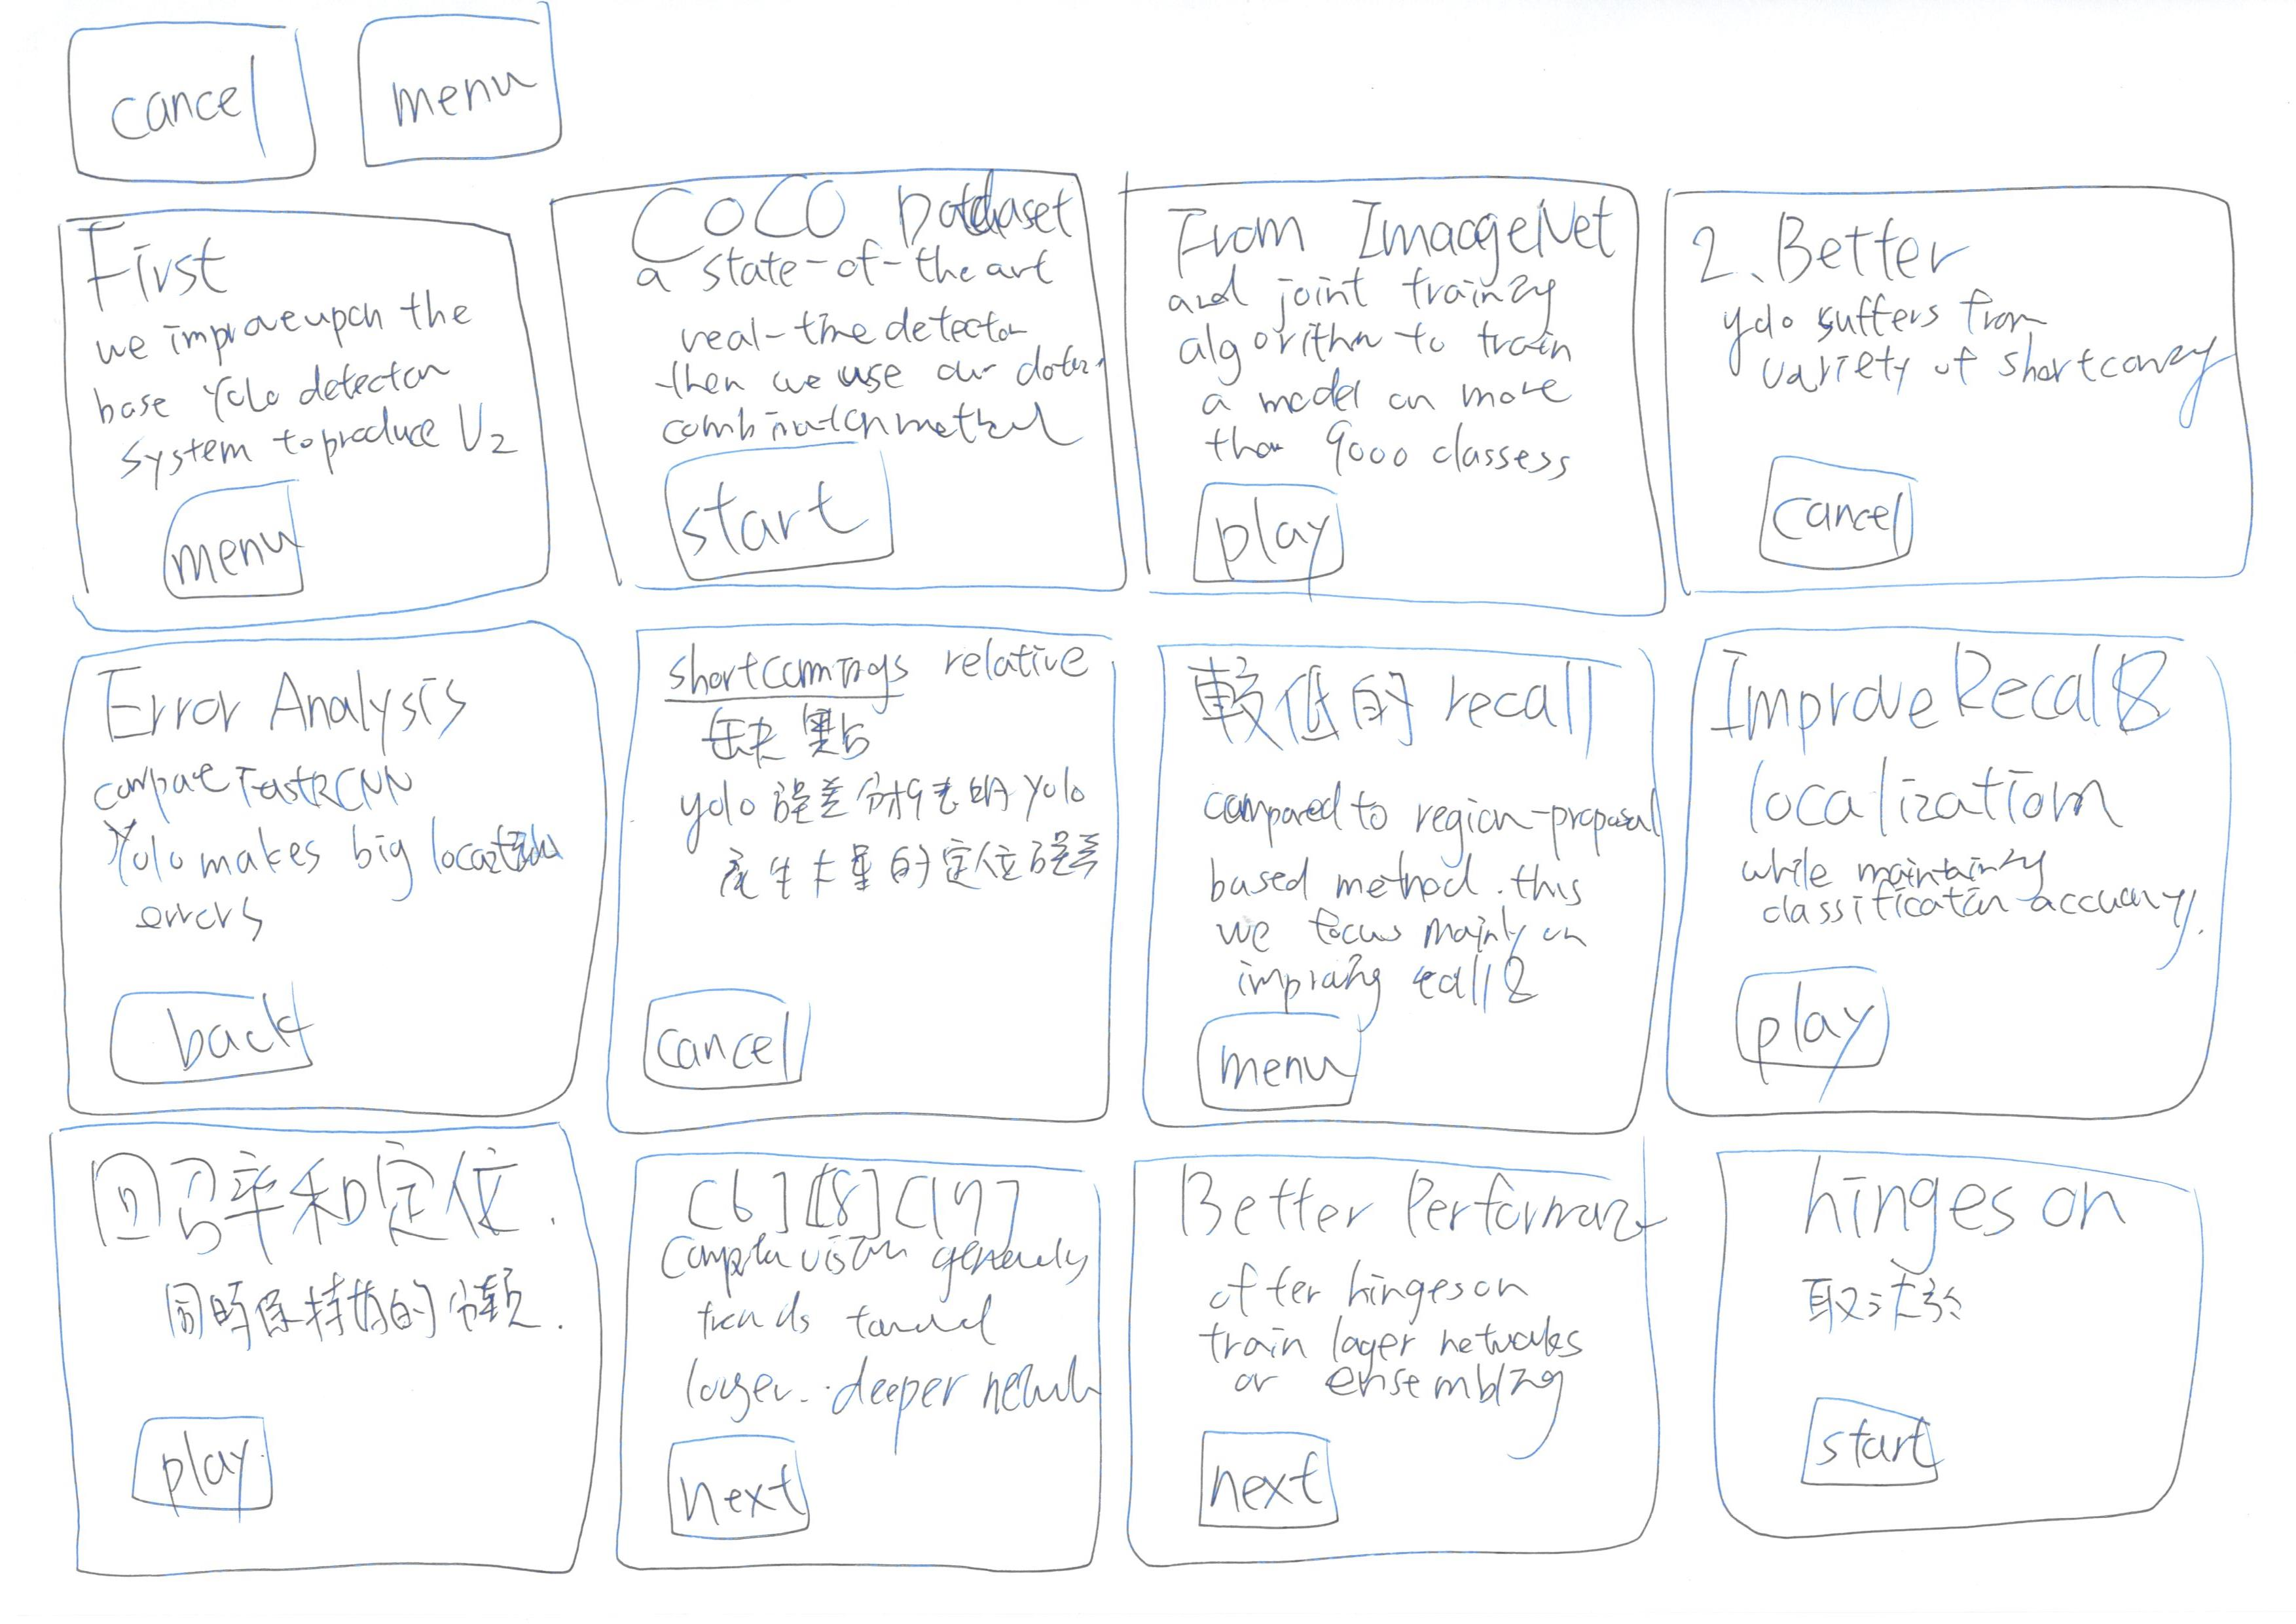back: (77, 944, 373, 1111)
cancel: (51, 0, 341, 206), (615, 968, 842, 1137), (1749, 424, 1967, 587)
menu: (352, 0, 598, 179), (1174, 997, 1412, 1123), (134, 471, 334, 613)
next: (1169, 1403, 1361, 1550), (650, 1425, 854, 1555)
play: (109, 1387, 309, 1536), (1160, 466, 1391, 594), (1721, 953, 1897, 1098)
quadruple: (1667, 608, 2257, 1148), (33, 1084, 624, 1624), (564, 1084, 1155, 1624), (1115, 1084, 1705, 1624), (1705, 1084, 2296, 1624), (1109, 624, 1700, 1162), (1651, 151, 2296, 636), (26, 620, 615, 1149), (596, 613, 1144, 1155), (1088, 169, 1693, 647), (529, 149, 1134, 626), (9, 178, 570, 642)
row: (4, 608, 2296, 1169), (4, 1063, 2296, 1624), (4, 135, 2296, 640), (4, 0, 2296, 241)
small-title: (1728, 643, 2233, 754), (1183, 654, 1635, 770), (642, 1160, 1050, 1288), (665, 640, 1083, 765), (83, 1137, 533, 1251), (1178, 1169, 1660, 1260), (1159, 188, 1605, 278), (1777, 1144, 2127, 1255), (631, 174, 1069, 257), (107, 664, 471, 752), (1682, 206, 1988, 295), (95, 221, 258, 320)
start: (621, 441, 928, 592), (1777, 1369, 1976, 1506)
text: (1202, 759, 1651, 1004), (1164, 276, 1616, 492), (1728, 765, 2219, 944), (88, 761, 570, 932), (619, 269, 1058, 452), (658, 1236, 1053, 1425), (1726, 283, 2215, 431), (97, 308, 501, 473), (686, 763, 1099, 921), (1204, 1267, 1598, 1413), (134, 1267, 566, 1355), (1814, 1264, 2004, 1350)
